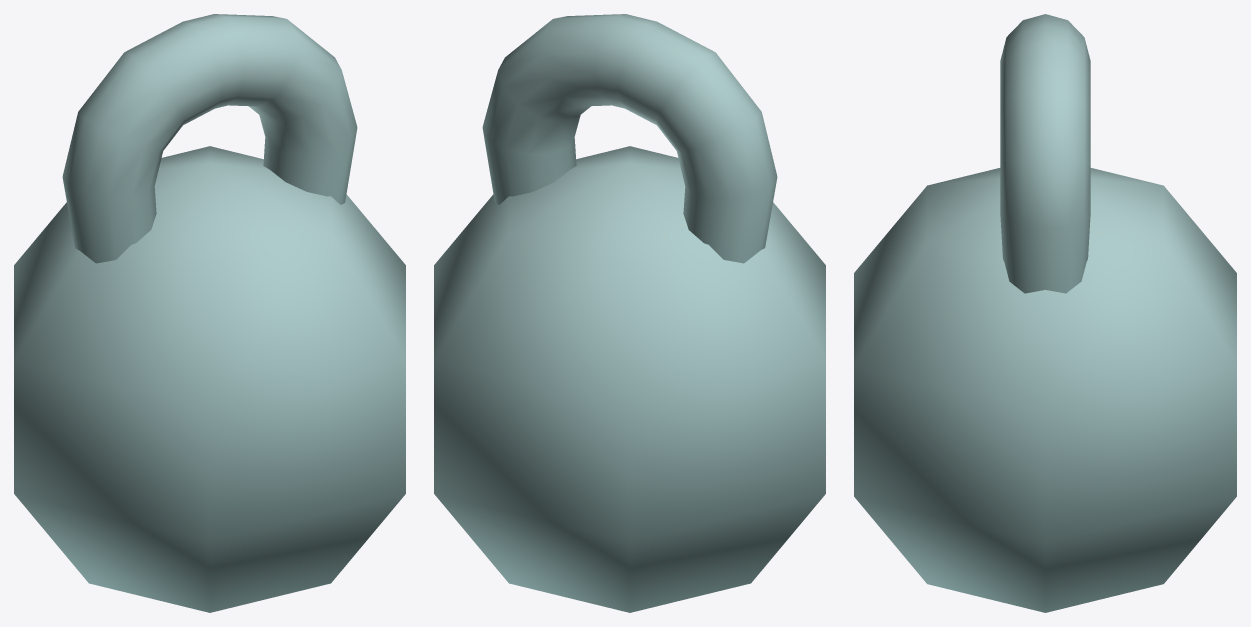
Rendered from fitness-kettebell.glb.
The picture shows the model from 3 angles, left to right: view 1: azimuth 30°, elevation 25°; view 2: azimuth 150°, elevation 25°; view 3: azimuth 270°, elevation 25°; orthographic projection. The views are drawn at different scales.
Visible parts, largest first — view 1: fitness-kettebell; view 2: fitness-kettebell; view 3: fitness-kettebell.
Boxes of the visible parts, left/top/right/bottom form: fitness-kettebell: left=14, top=14, right=405, bottom=612; fitness-kettebell: left=434, top=14, right=825, bottom=612; fitness-kettebell: left=854, top=14, right=1236, bottom=612.
Bounding box in the file's own units: 0.2522 × 0.3534 × 0.2184.
